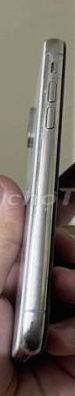scratch: (20, 314, 47, 345), (43, 50, 73, 63)
